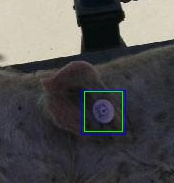text: (84, 91, 122, 131)
